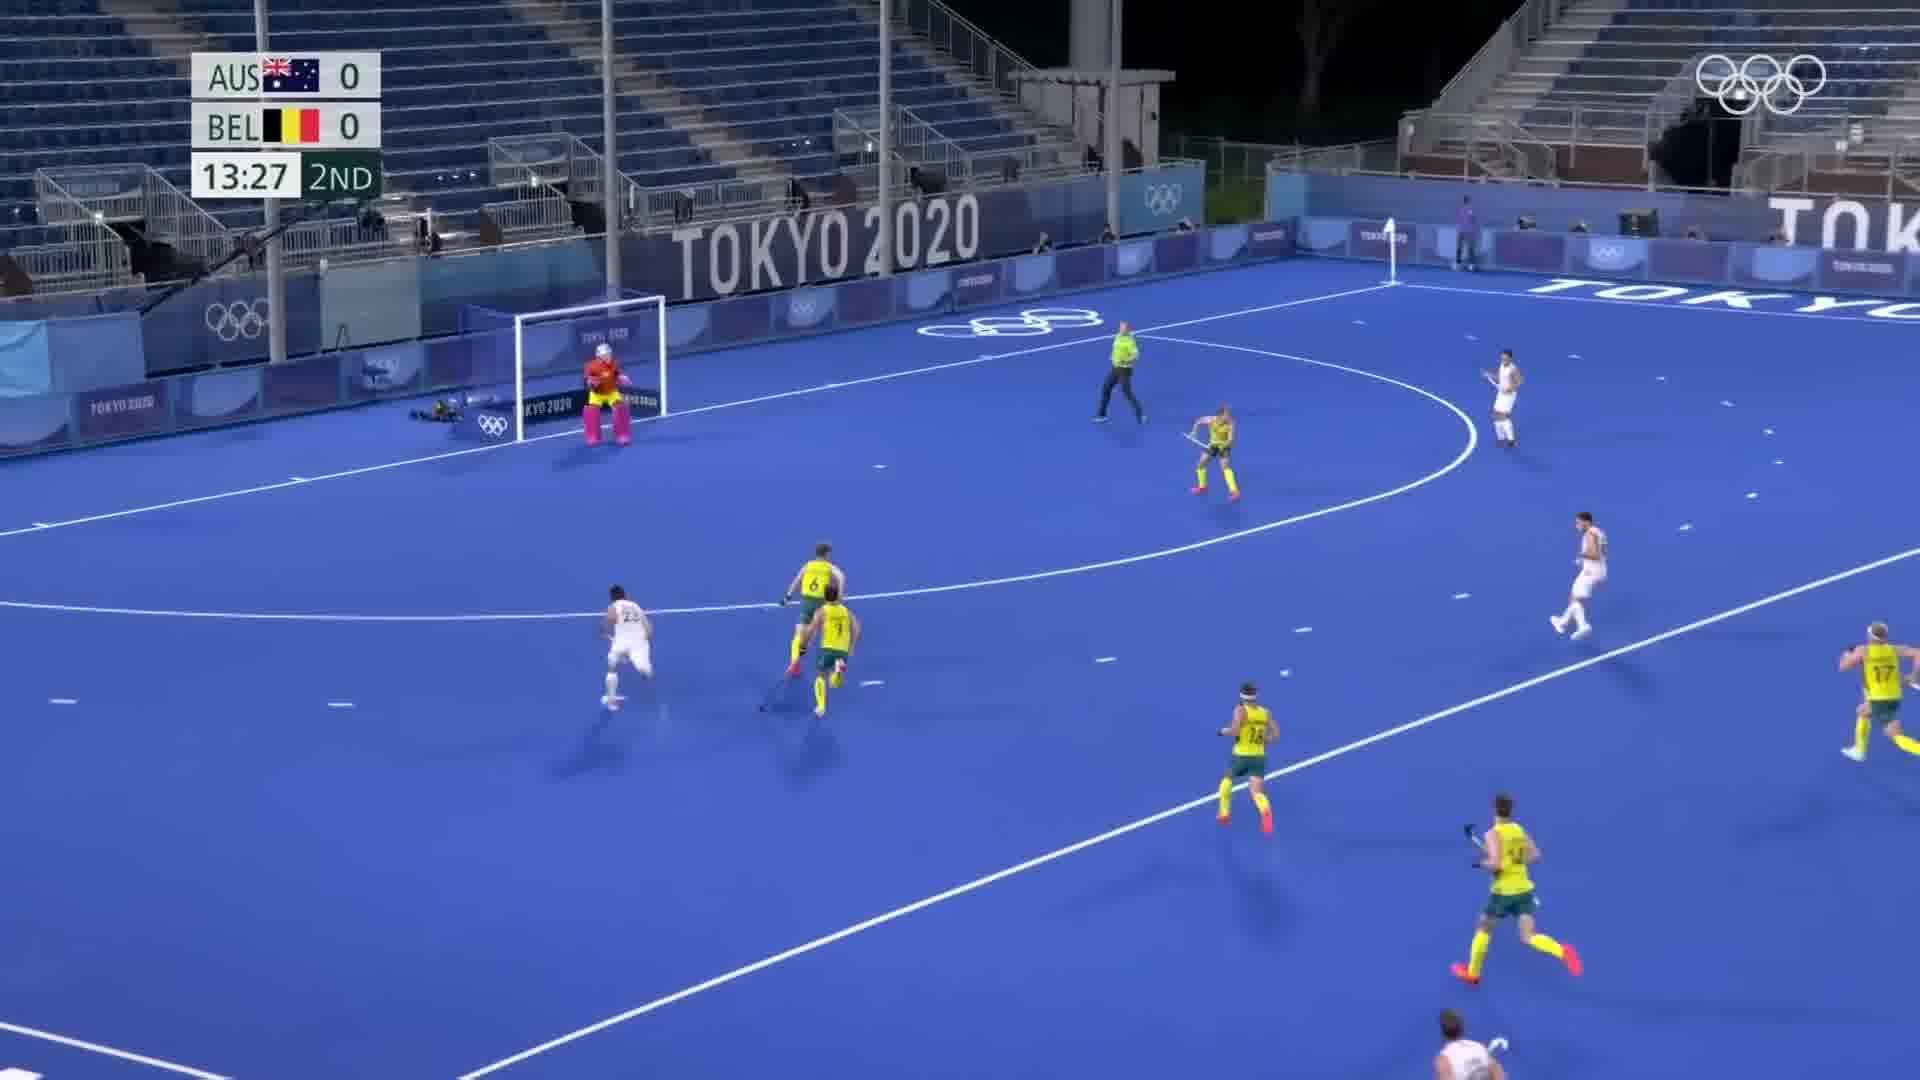ball: (1274, 662, 1298, 683)
